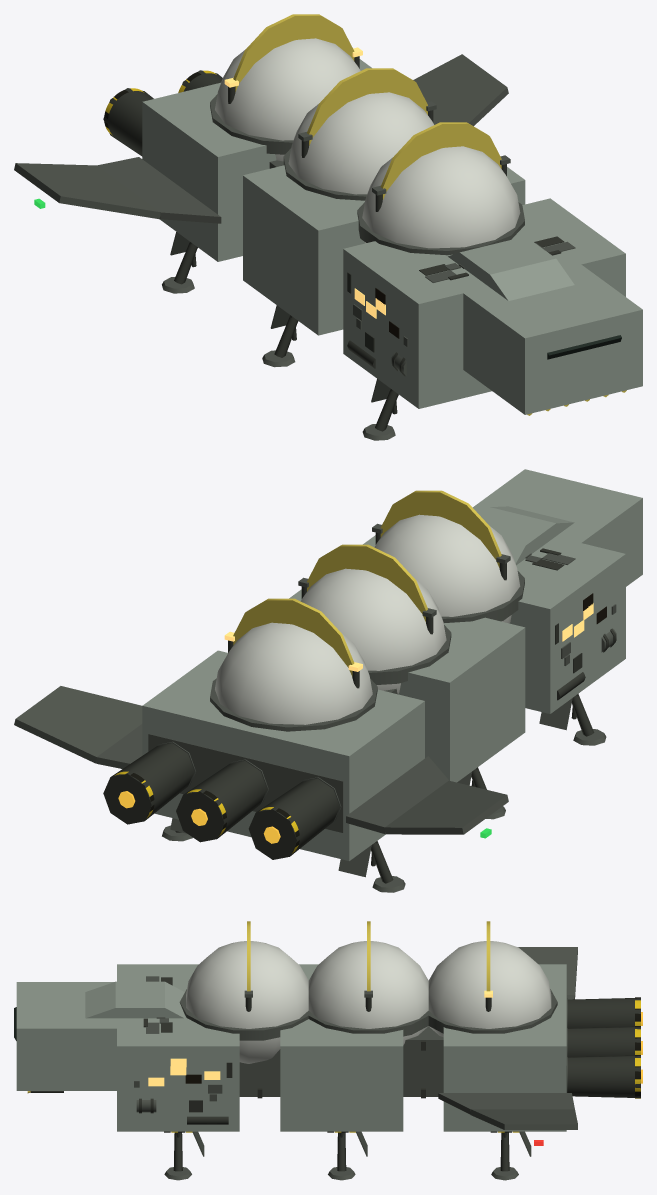
Rendered from h2_freighter-l.glb.
3 views of the same model, one above another, from view 1: azimuth 30°, elevation 25°; view 2: azimuth 150°, elevation 25°; view 3: azimuth 270°, elevation 25° (orthographic). The views are drawn at different scales.
Parts seen in each view (by area): view 1: hullMain, hullNose, hullSection1, hullSection2, pressureTank0, pressureTank2, pressureTank1, canopyFairing, wingOuterLeft, wingOuterRight, wingInnerLeft, tankBand0 (+6 smaller); view 2: hullSection2, hullSection1, hullMain, engineHousing (×3), pressureTank2, pressureTank1, pressureTank0, hullNose, wingOuterRight, wingOuterLeft, engineBayExtension, wingInnerLeft (+8 smaller); view 3: hullMain, hullSection1, hullSection2, hullNose, pressureTank0, pressureTank2, pressureTank1, engineHousing (×3), canopyFairing, gantry1, wingInnerRight, wingOuterRight (+5 smaller).
Boxes of the visible parts, x1,y1,x2,y2 form: hullMain: [343, 198, 625, 408]; hullNose: [463, 264, 642, 414]; hullSection1: [243, 165, 525, 335]; hullSection2: [142, 59, 371, 261]; pressureTank0: [362, 146, 520, 248]; pressureTank2: [215, 38, 360, 161]; pressureTank1: [288, 92, 433, 194]; canopyFairing: [448, 236, 574, 300]; wingOuterLeft: [14, 163, 160, 219]; wingOuterRight: [413, 54, 508, 126]; wingInnerLeft: [97, 157, 221, 223]; tankBand0: [380, 122, 501, 199]; hullSection2: [142, 650, 424, 860]; hullSection1: [289, 589, 525, 782]; hullMain: [363, 535, 625, 713]; engineHousing (×3): [103, 743, 339, 859]; pressureTank2: [215, 622, 372, 724]; pressureTank1: [300, 568, 446, 693]; pressureTank0: [374, 514, 520, 623]; hullNose: [472, 469, 642, 586]; wingOuterRight: [14, 686, 142, 763]; wingOuterLeft: [384, 780, 508, 834]; engineBayExtension: [148, 734, 343, 832]; wingInnerLeft: [346, 756, 448, 833]; hullMain: [117, 964, 239, 1131]; hullSection1: [280, 964, 403, 1131]; hullSection2: [443, 964, 566, 1131]; hullNose: [16, 982, 124, 1090]; pressureTank0: [186, 941, 308, 1063]; pressureTank2: [428, 941, 551, 1037]; pressureTank1: [308, 941, 428, 1044]; engineHousing (×3): [567, 998, 640, 1098]; canopyFairing: [85, 981, 184, 1018]; gantry1: [403, 1026, 443, 1096]; wingInnerRight: [438, 1093, 574, 1114]; wingOuterRight: [470, 1109, 577, 1129].
Bounding box in the file's own units: 6.98 × 3.74 × 10.35.
